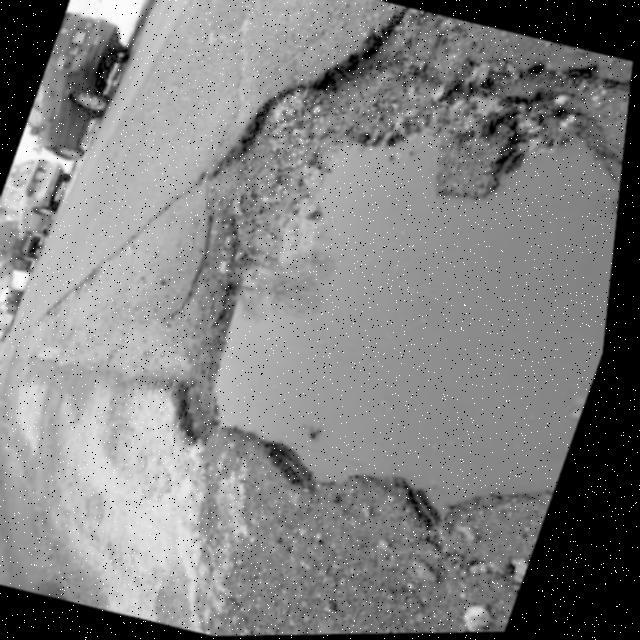pothole: (101, 0, 640, 564)
